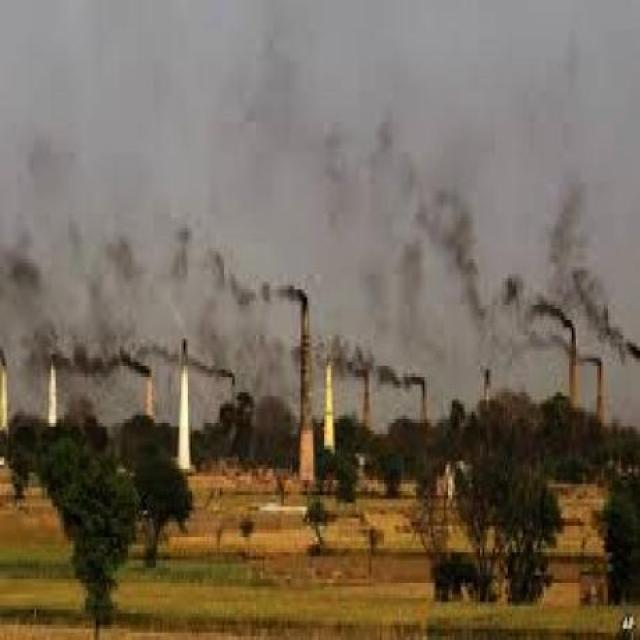Smoke: (313, 113, 640, 383), (0, 124, 303, 379)
